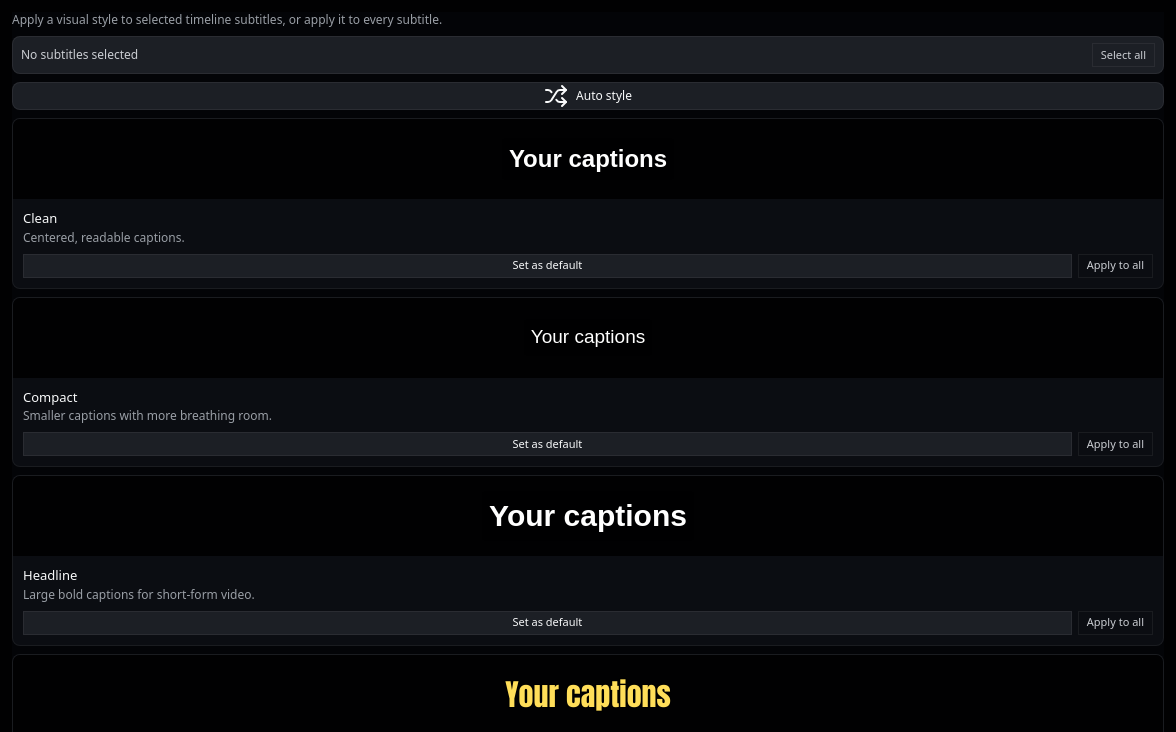
it: TextStylesPanel › selects every subtitle from the Text styles panel
Click the button "Select all": (1123, 55) [1092,43,1155,67]
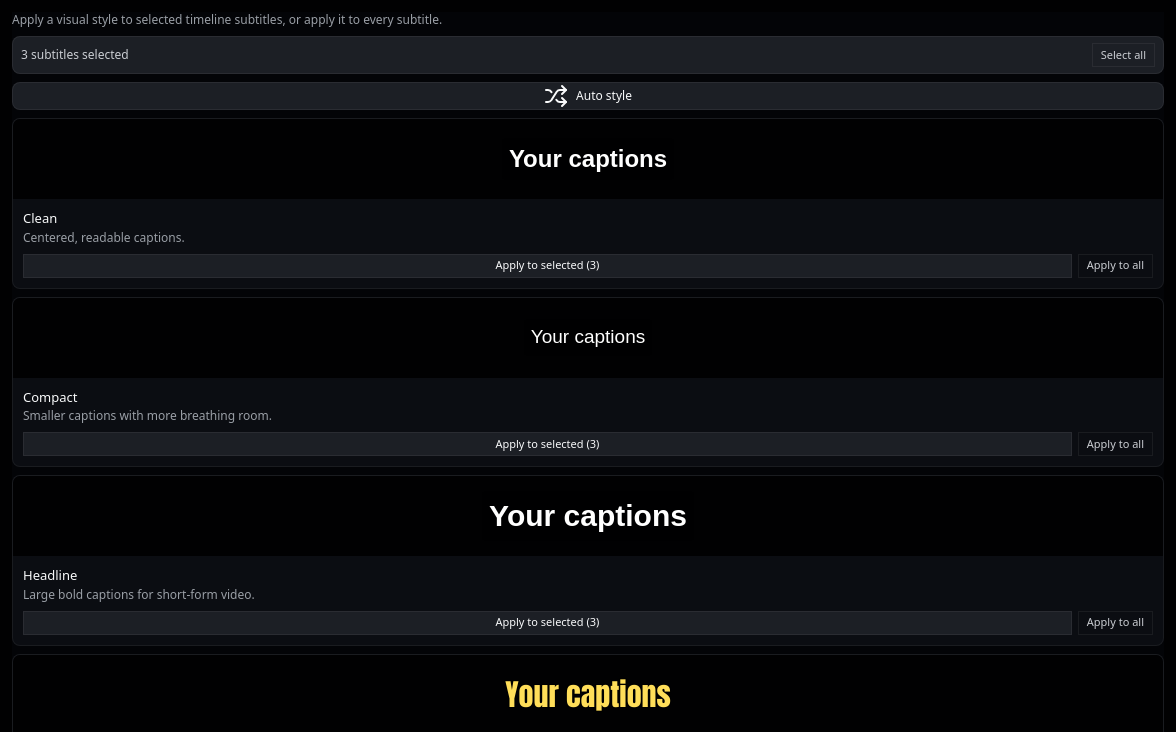
Result: the text "3 subtitles selected" is shown at [21,47,129,63]
